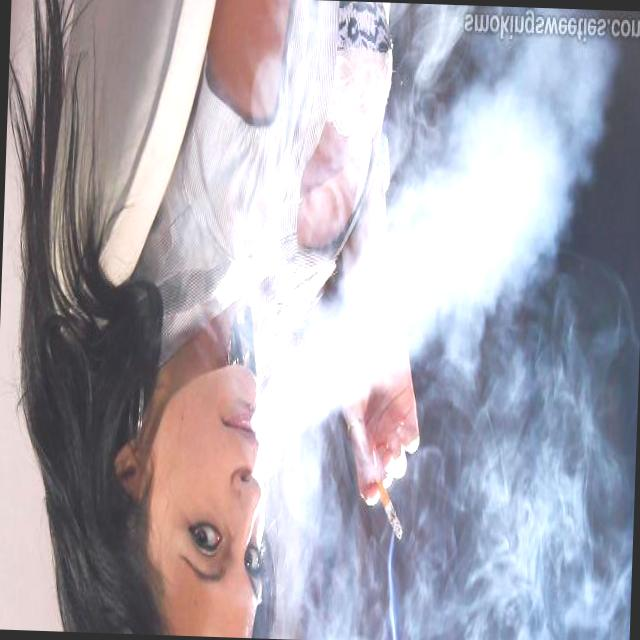smoke: (356, 451, 428, 574)
